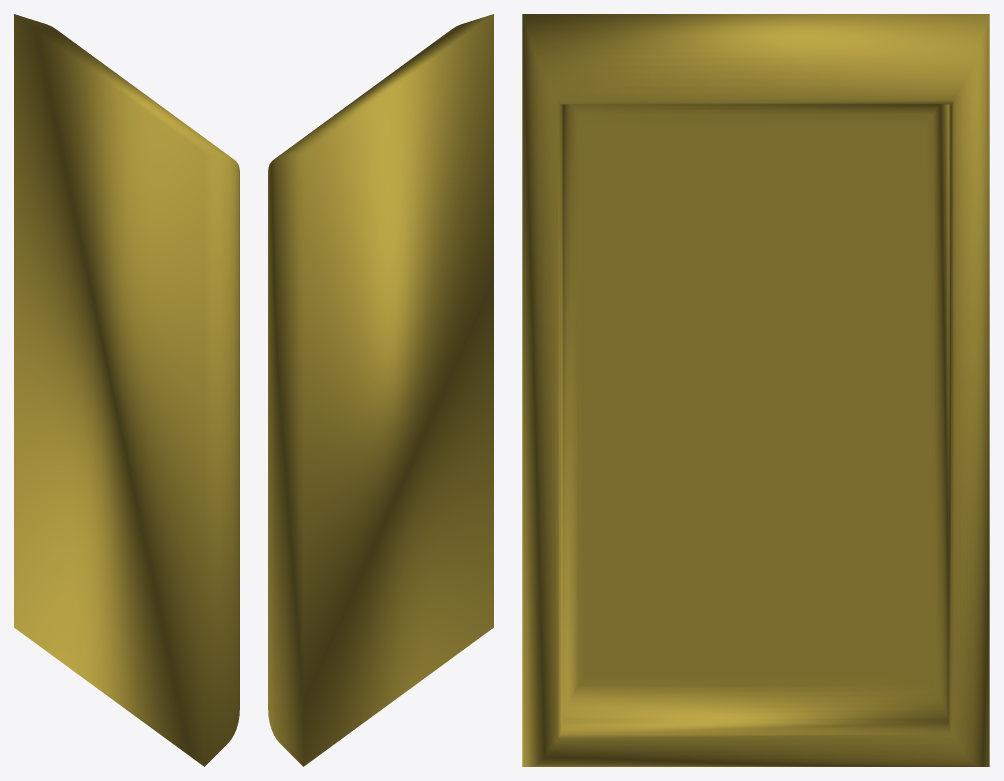
Rendered from Background2.fbx.
The picture shows the model from 3 angles, left to right: view 1: azimuth 30°, elevation 25°; view 2: azimuth 150°, elevation 25°; view 3: azimuth 270°, elevation 25°; orthographic projection. The views are drawn at different scales.
Parts seen in each view (by area): view 1: Plane; view 2: Plane; view 3: Plane.
Part boxes in pixels (x1,y1,x2,y2): Plane: (14, 14, 239, 766); Plane: (268, 14, 493, 766); Plane: (522, 14, 989, 766).
Bounding box in the file's own units: 15.85 × 192 × 108.
